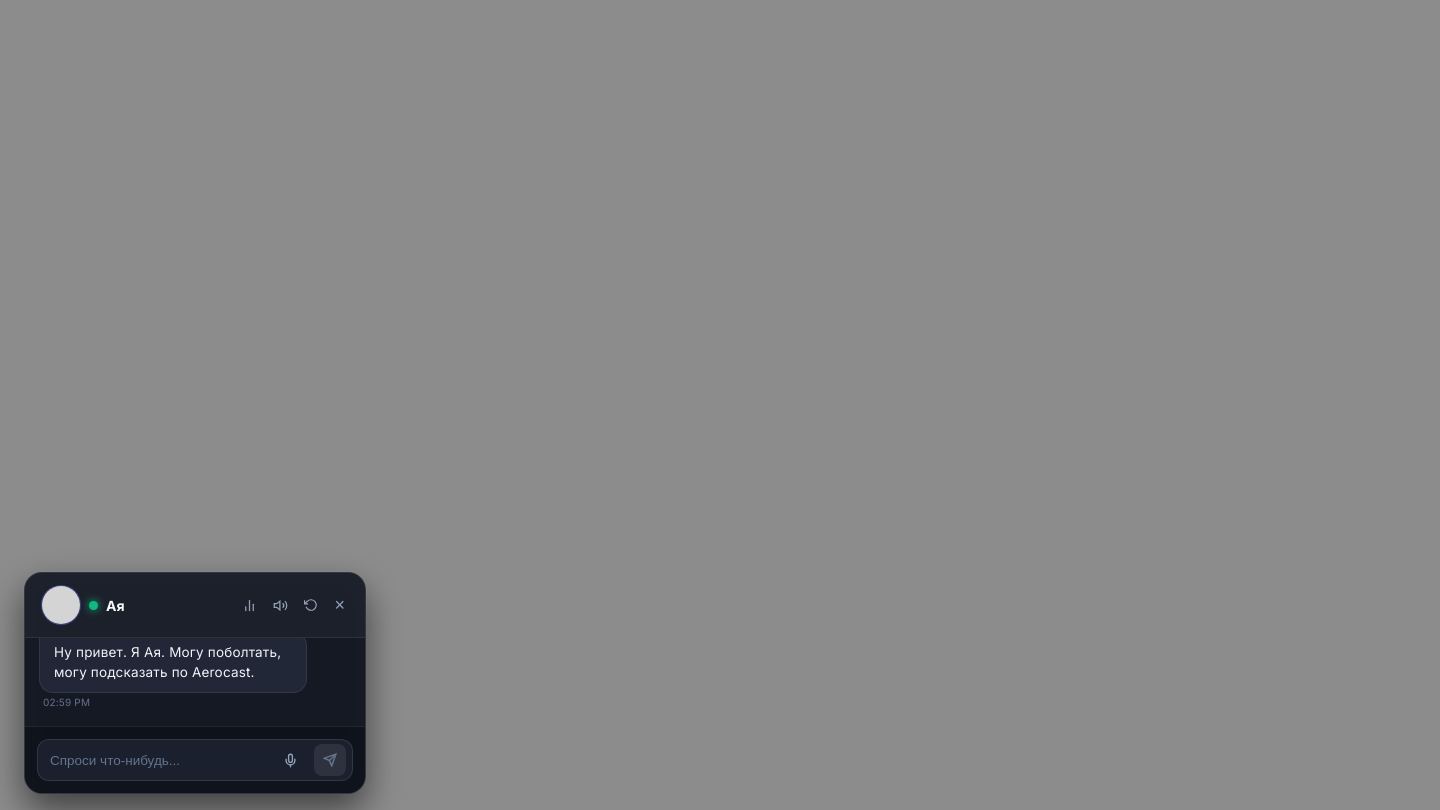
Scenario: AiChatModal Component › отправляет сообщение пользователя и отображает ответ от AnyModel API
(page scrolled)
Type "Привет, как дела?" into the field with placeholder "Спроси что-нибудь..." at (158, 760), box 50,744 -> 266,776
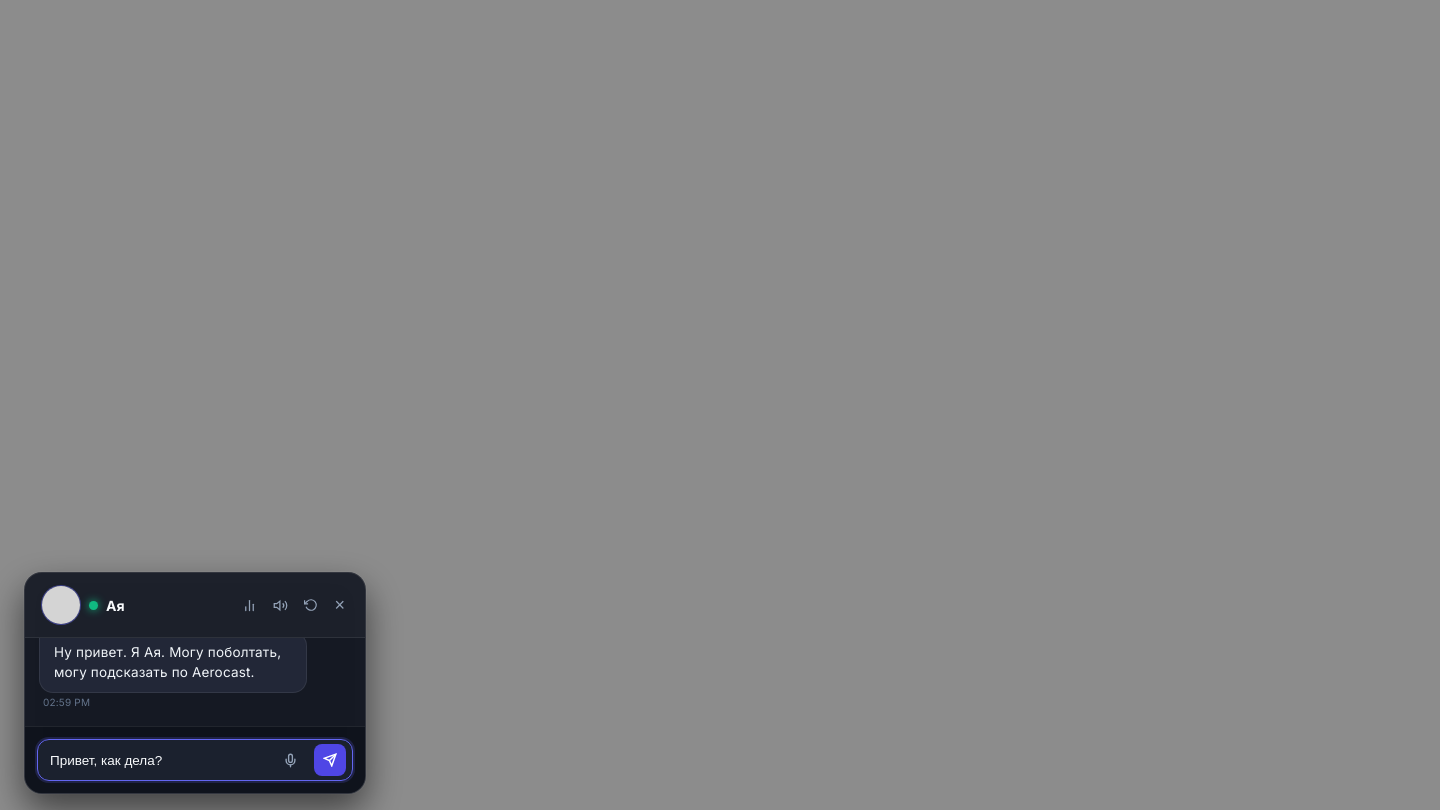
Click the button named "Отправить сообщение" at (330, 760), box 314,744 -> 346,776
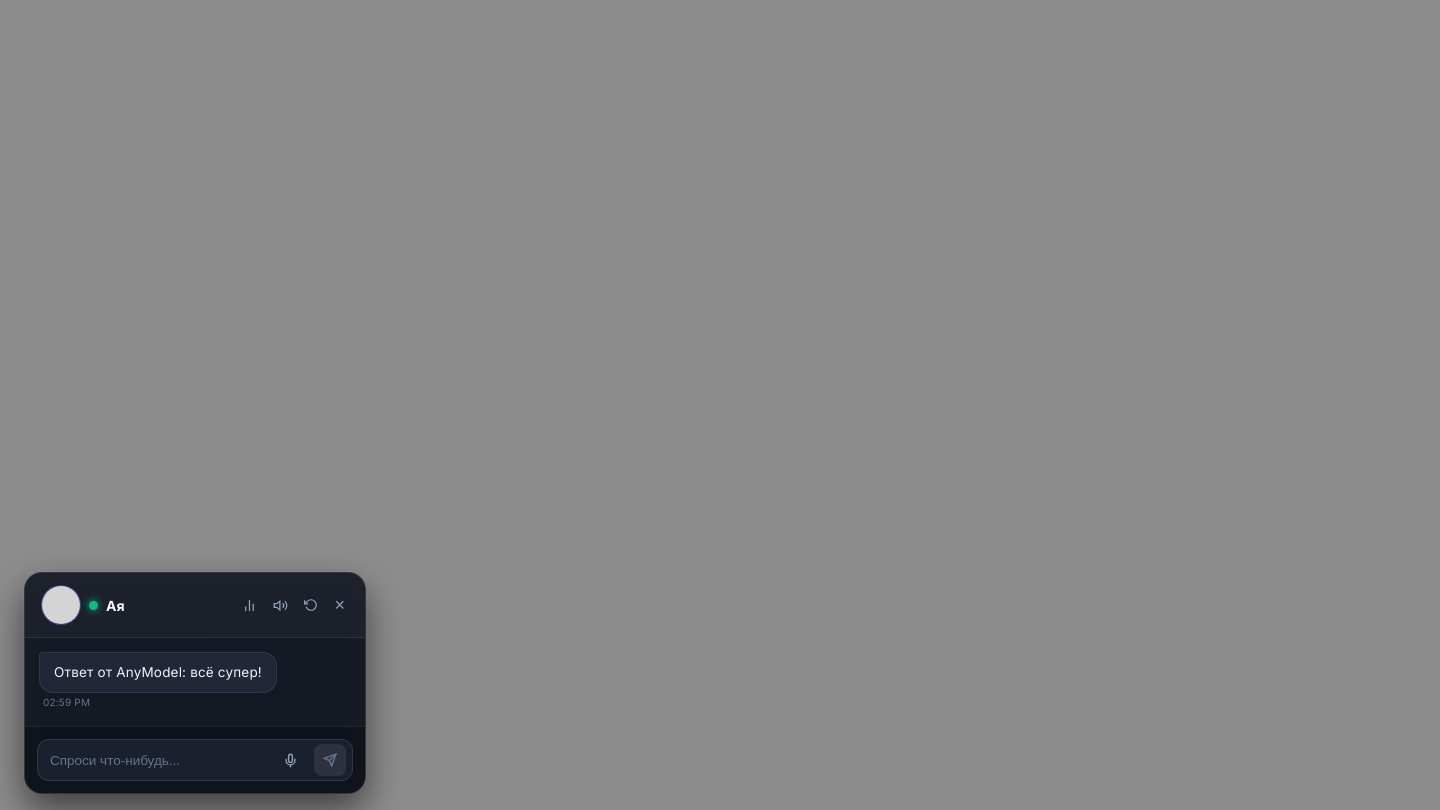
Expected: the field with placeholder "Спроси что-нибудь..." is empty, 50,744 -> 266,776
Expected: the text "Ответ от AnyModel: всё супер!" is shown, 54,664 -> 262,680
